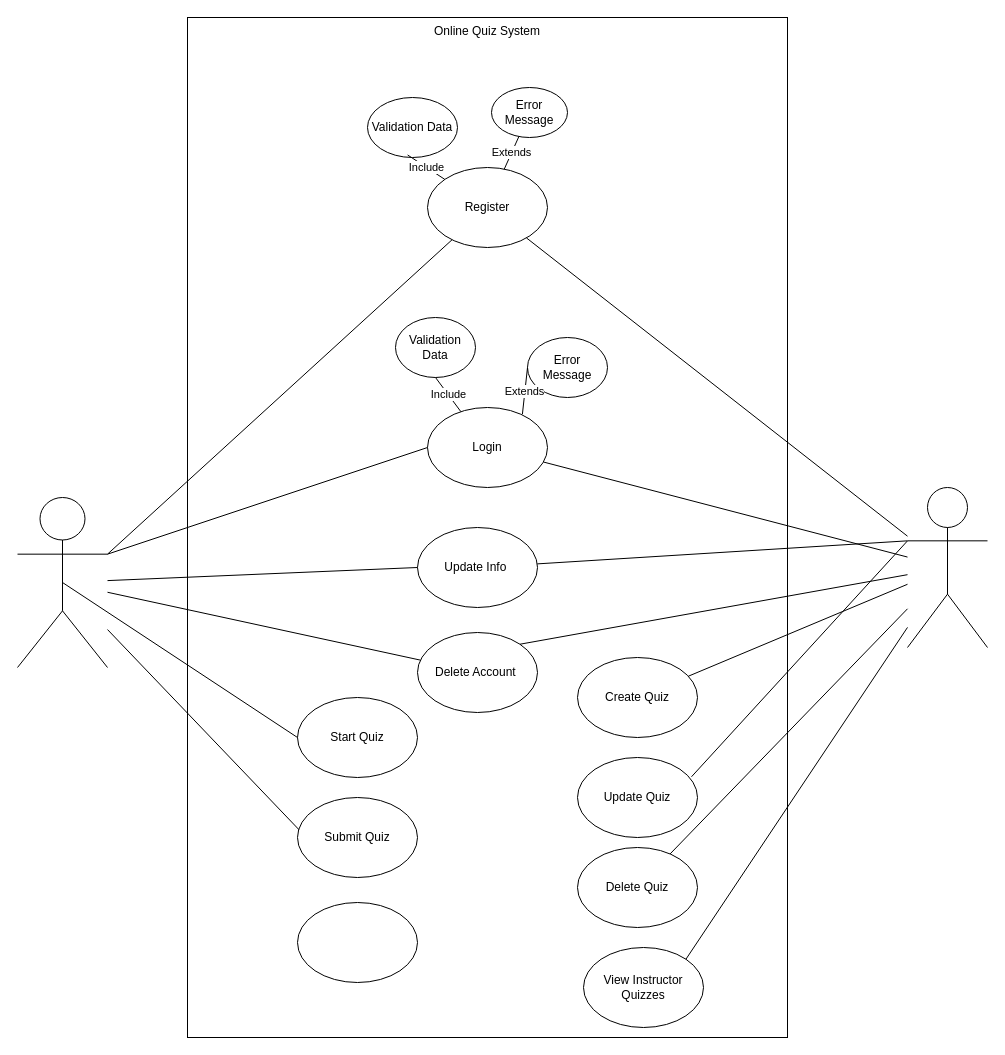
Some shapes in this 1005 by 1055 pixel diagram are drawn without their labels. The shapes that lost their labels are listed below. From the top down, each one's centre as x and y in pixels, then its label:
(62,582): Student
(947,567): Instructor
(357,942): Review Results
